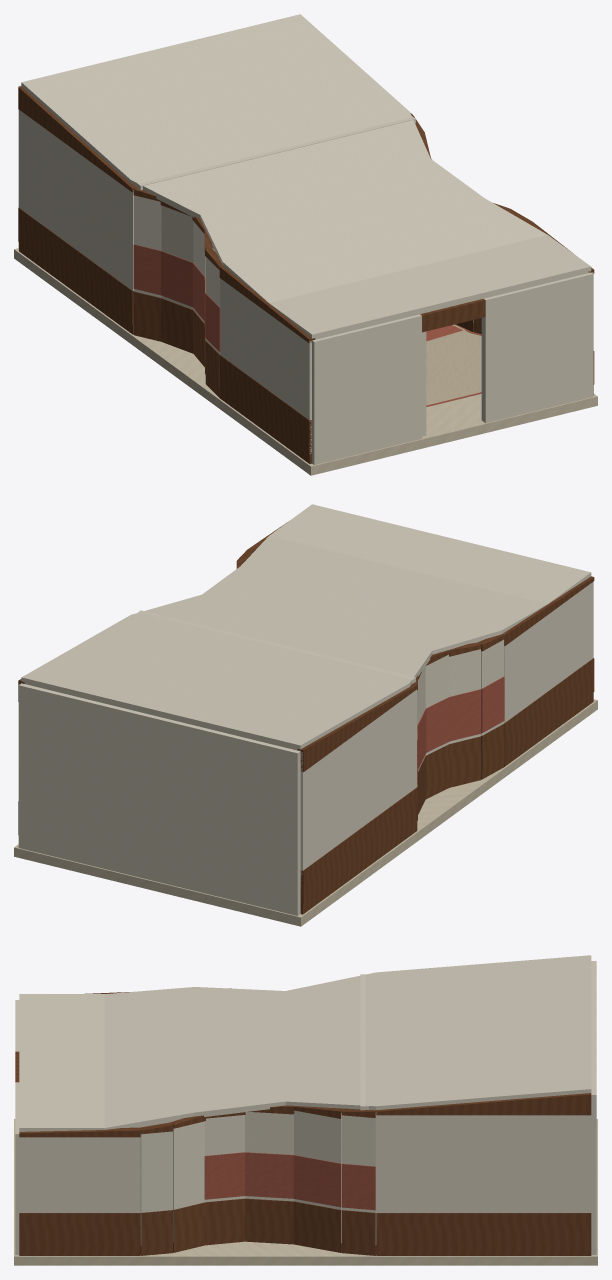
The model's file is shell.glb.
The picture shows the model from 3 angles, top to bottom: view 1: azimuth 30°, elevation 25°; view 2: azimuth 150°, elevation 25°; view 3: azimuth 270°, elevation 25°; orthographic projection.
Parts seen in each view (by area): view 1: SUI_Runtime_ivory_enamel, SUI_Runtime_warm_walnut, SUI_Runtime_warm_stone, SUI_Runtime_clay_weave, SUI_Runtime_oatmeal_weave; view 2: SUI_Runtime_ivory_enamel, SUI_Runtime_warm_walnut, SUI_Runtime_warm_stone, SUI_Runtime_clay_weave; view 3: SUI_Runtime_ivory_enamel, SUI_Runtime_warm_walnut, SUI_Runtime_warm_stone, SUI_Runtime_clay_weave.
Part boxes in pixels (box(x1,y1,x2,y2)): SUI_Runtime_ivory_enamel: box(18, 14, 593, 464); SUI_Runtime_warm_walnut: box(18, 86, 594, 463); SUI_Runtime_warm_stone: box(14, 248, 597, 475); SUI_Runtime_clay_weave: box(133, 244, 481, 406); SUI_Runtime_oatmeal_weave: box(212, 245, 481, 405); SUI_Runtime_ivory_enamel: box(18, 504, 593, 915); SUI_Runtime_warm_walnut: box(18, 522, 594, 914); SUI_Runtime_warm_stone: box(14, 699, 597, 926); SUI_Runtime_clay_weave: box(417, 676, 504, 783); SUI_Runtime_ivory_enamel: box(15, 955, 596, 1254); SUI_Runtime_warm_walnut: box(15, 988, 591, 1255); SUI_Runtime_warm_stone: box(14, 1119, 597, 1265); SUI_Runtime_clay_weave: box(204, 1152, 375, 1210).
Size of the model in its own units: 7.2 by 4.26 by 12.9.
Materials: 8 (7 with a texture image).
